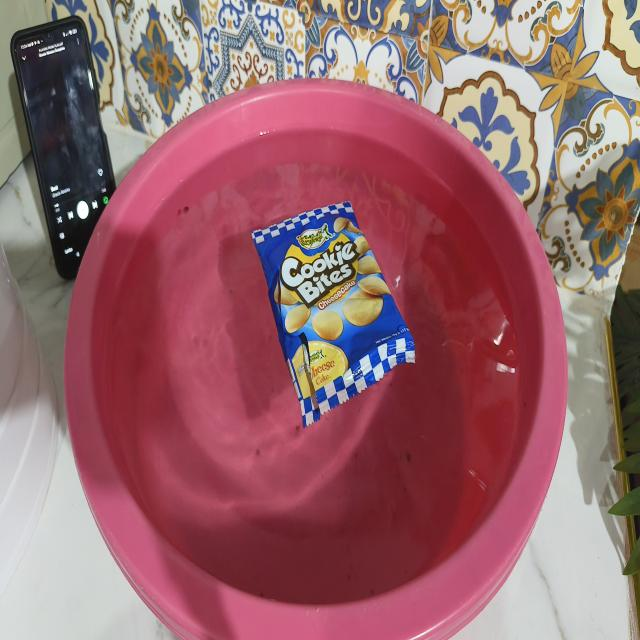Plastic Wrapper: (252, 202, 415, 427)
